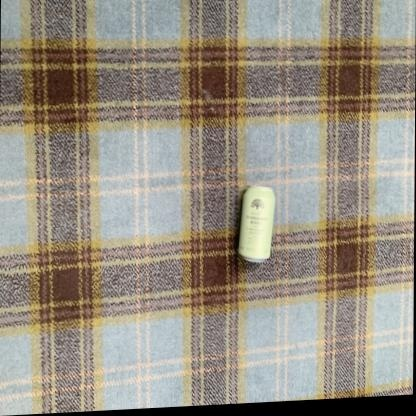trash: (238, 186, 274, 262)
